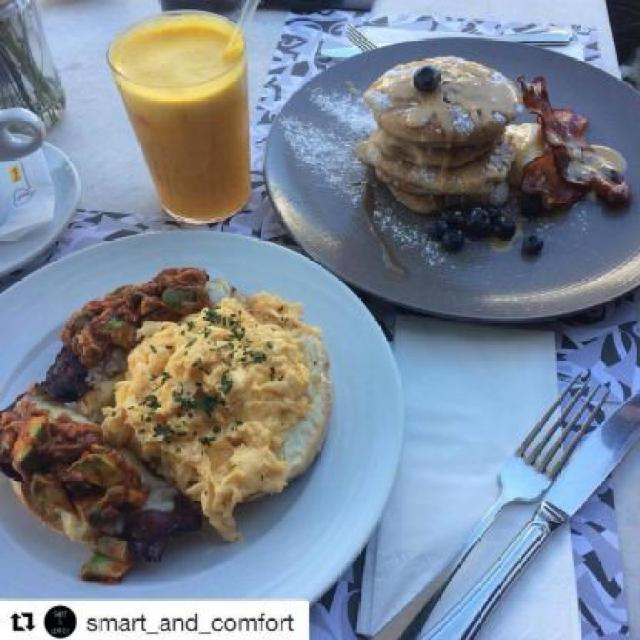omelette: (107, 291, 336, 506)
pancakes: (345, 58, 524, 219)
